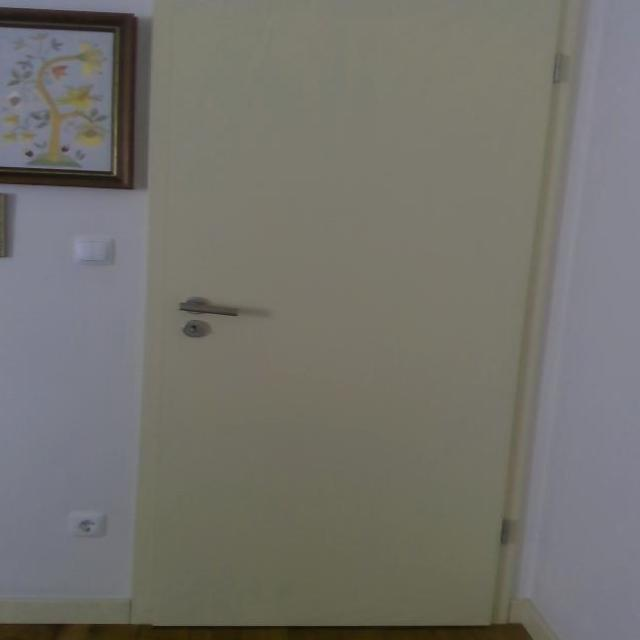door: (129, 0, 580, 628)
